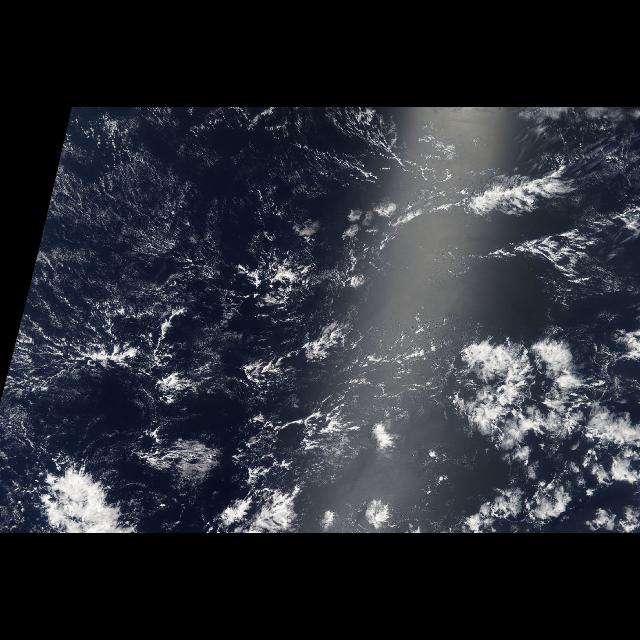Flower: (150, 340, 436, 528)
Sugar: (12, 107, 410, 355)
